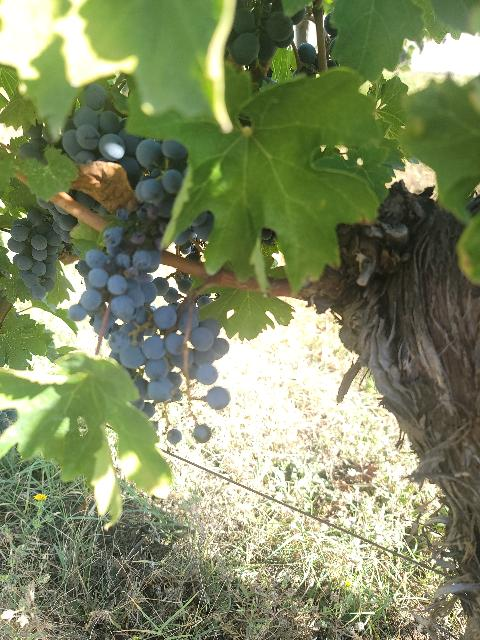grapes: (68, 204, 166, 339), (120, 304, 229, 402), (8, 209, 63, 301)
